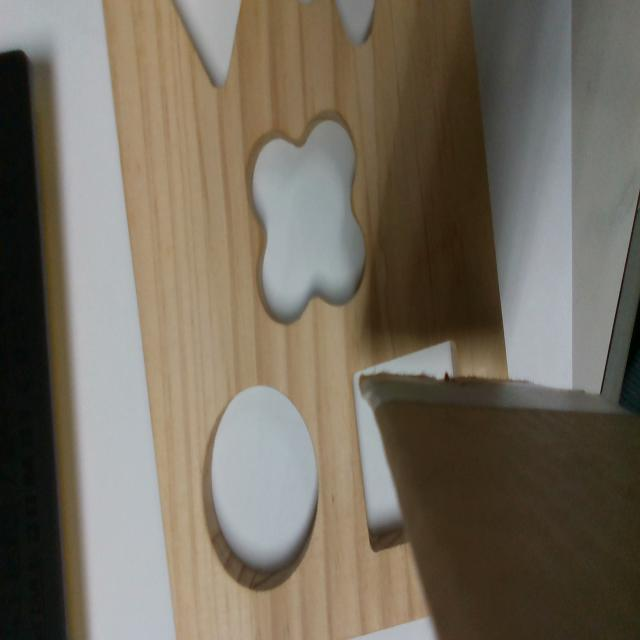circle: (203, 390, 320, 590)
flower: (244, 107, 363, 320)
square: (350, 335, 462, 554)
star: (331, 5, 377, 44)
triangle: (173, 3, 244, 93)
